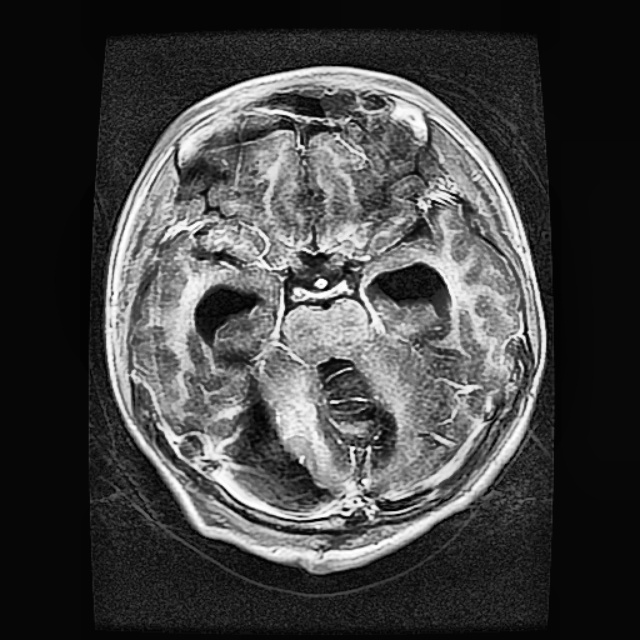Glioma: (315, 357, 399, 475)
